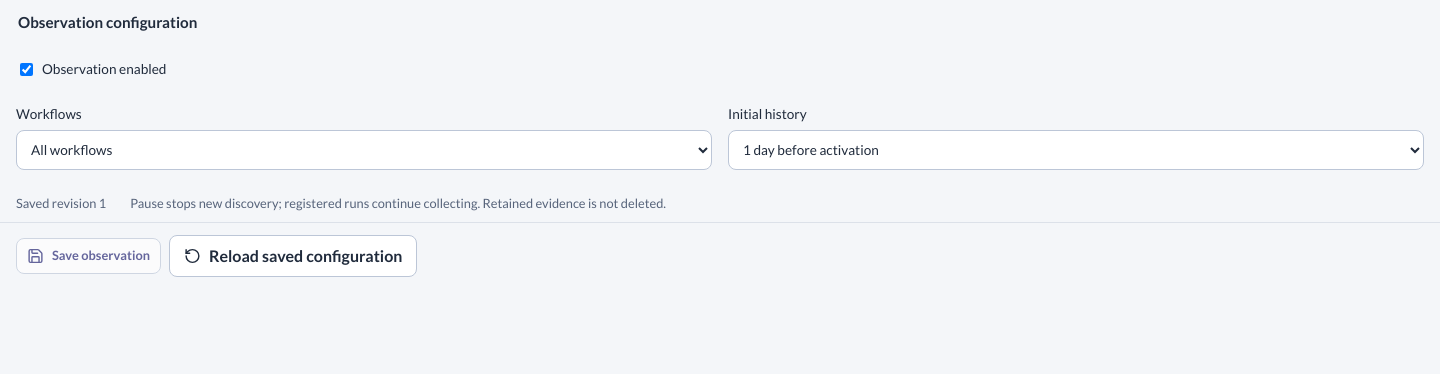
Scenario: a rejected revision_conflict write cannot repeat without explicit reload
The image size is (1440, 374).
What coordinates should you click on to do the following:
click the checkbox labelled "Observation enabled"
I would click on:
 (26, 69)
Its box is [20,63,33,76].
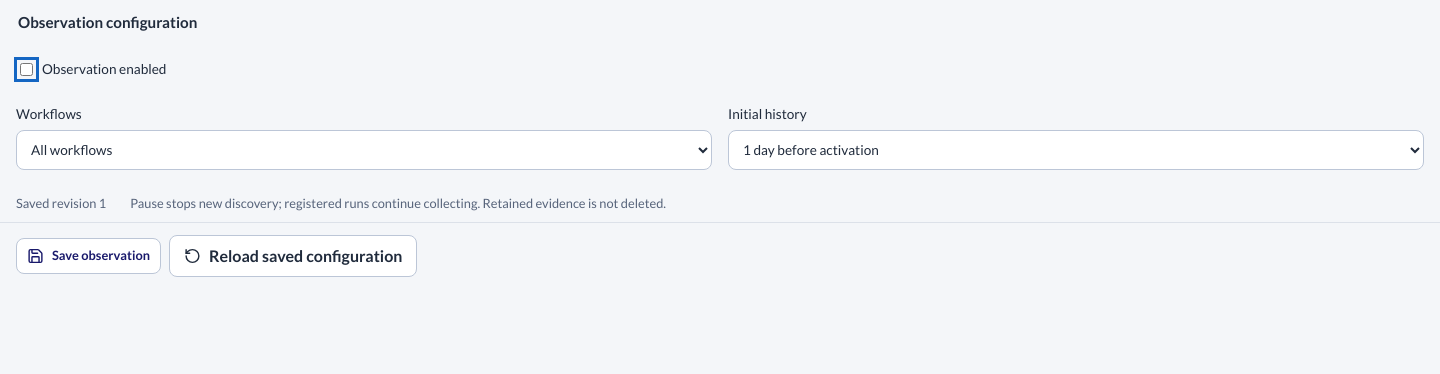
What coordinates should you click on to do the following:
click the button "Save observation"
I would click on:
 (88, 256)
Its box is [16,238,161,274].
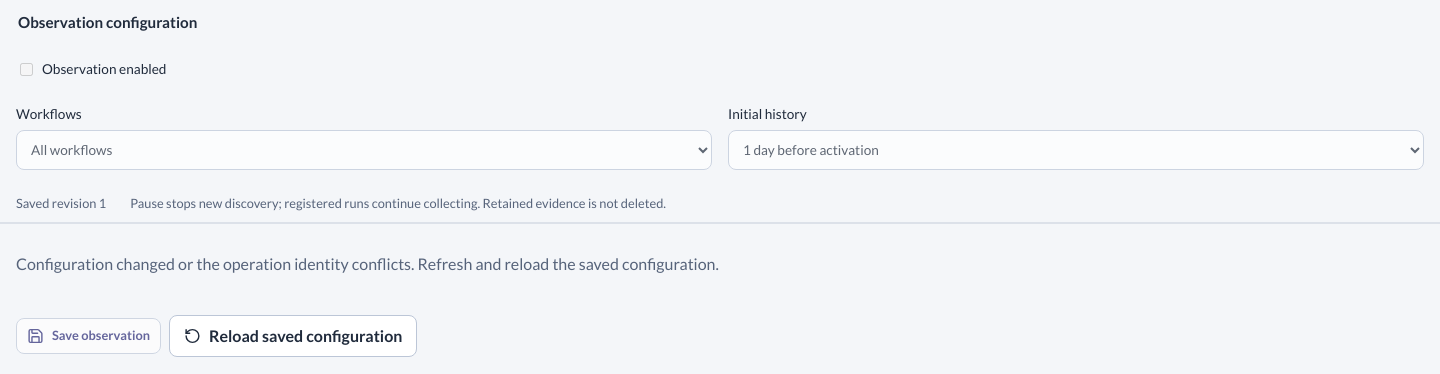
Expected: the message is shown, [0,223,1439,303]
Expected: the button "Save observation" is disabled, [16,318,161,354]
